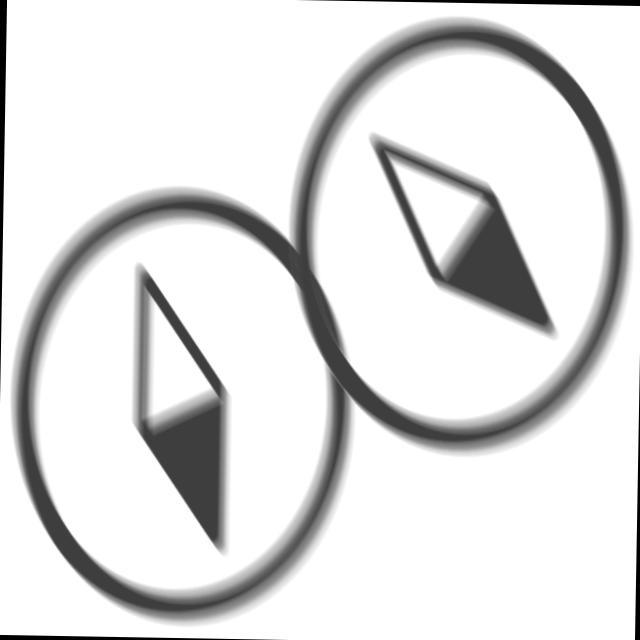compass: (1, 174, 365, 631), (278, 7, 638, 469)
